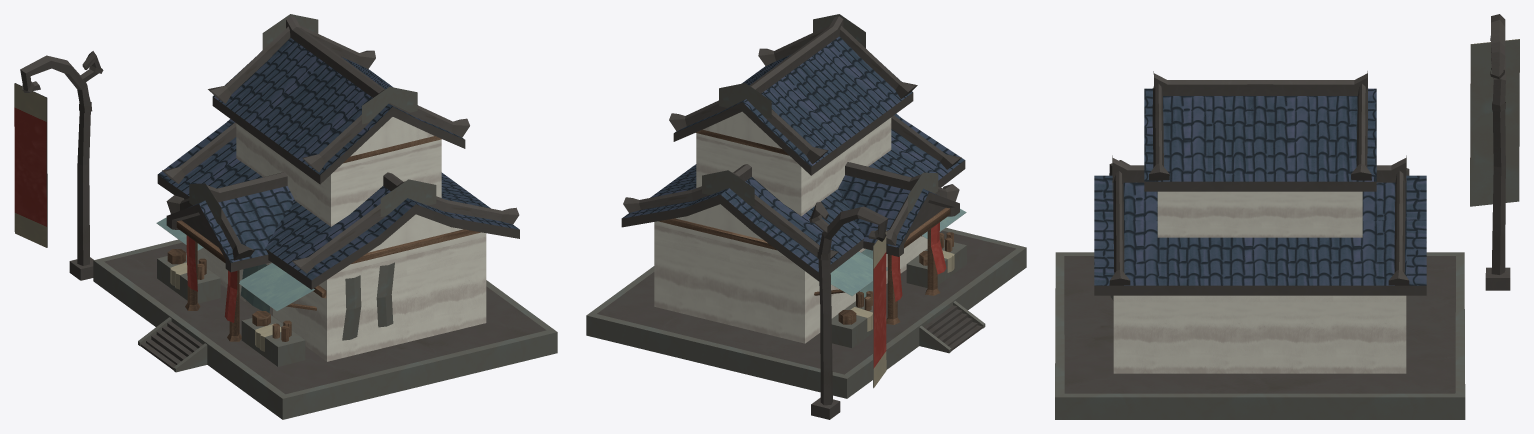
Rendered from JiuLou01.fbx.
3 views of the same model, side by side, from view 1: azimuth 30°, elevation 25°; view 2: azimuth 150°, elevation 25°; view 3: azimuth 270°, elevation 25° (orthographic). The views are drawn at different scales.
Parts seen in each view (by area): view 1: JiuLou01; view 2: JiuLou01; view 3: JiuLou01.
Boxes of the visible parts, x1,y1,x2,y2 form: JiuLou01: (14, 14, 557, 419); JiuLou01: (586, 14, 1026, 419); JiuLou01: (1055, 14, 1519, 419).
Size of the model in its own units: 484 by 376 by 544.
